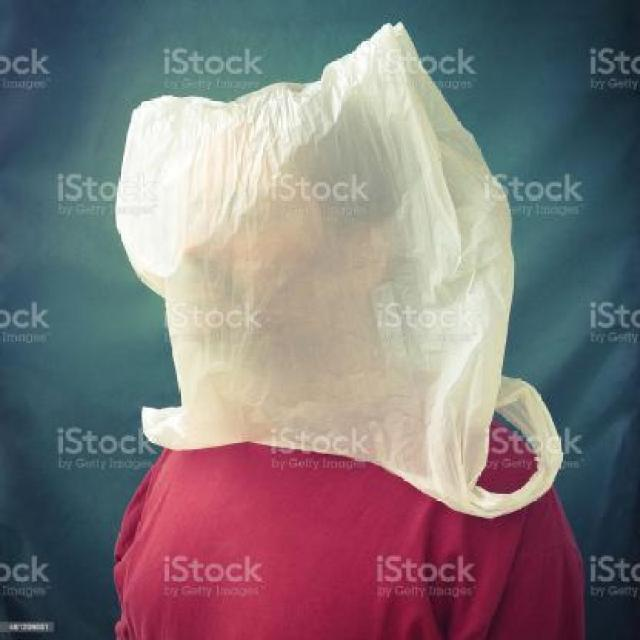plastic bag: (108, 14, 570, 541)
